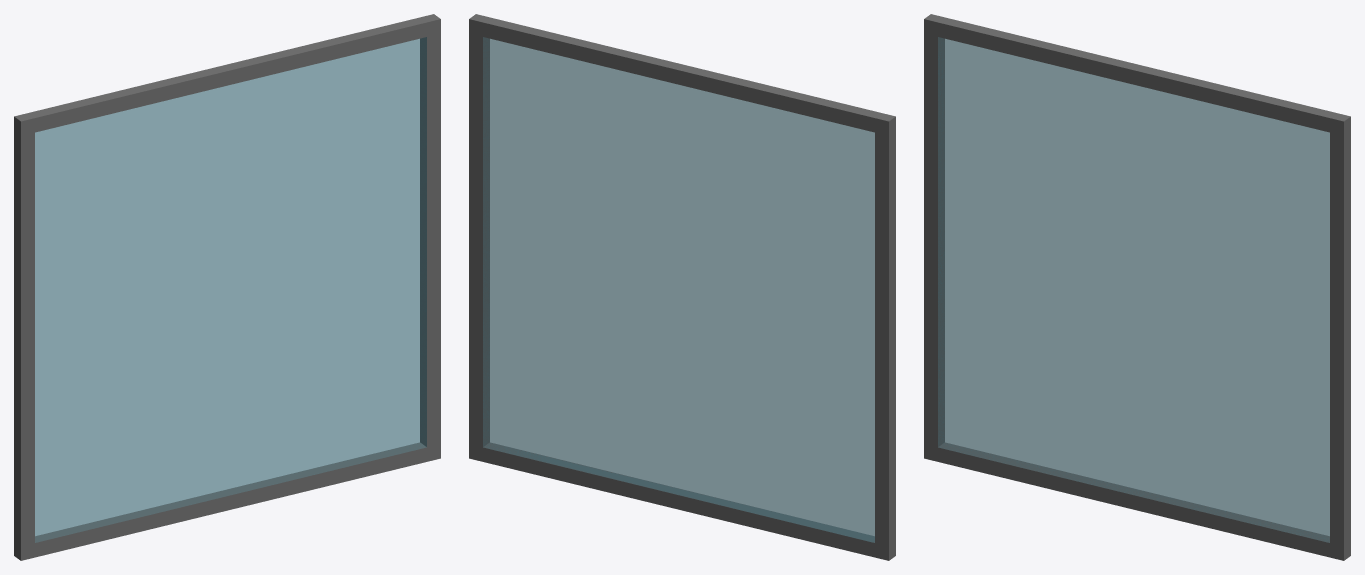
The model's file is 镜面广告.fbx.
The picture shows the model from 3 angles, left to right: view 1: azimuth 30°, elevation 25°; view 2: azimuth 150°, elevation 25°; view 3: azimuth 330°, elevation 25°; orthographic projection.
Parts seen in each view (by area): view 1: Rectangle060, Rectangle059; view 2: Rectangle060, Rectangle059; view 3: Rectangle060, Rectangle059.
Part boxes in pixels (box(x1,y1,x2,y2)): Rectangle060: box(35, 37, 426, 542); Rectangle059: box(14, 14, 440, 560); Rectangle060: box(483, 37, 874, 542); Rectangle059: box(469, 14, 895, 560); Rectangle060: box(938, 37, 1329, 542); Rectangle059: box(924, 14, 1350, 560).
Bounding box in the file's own units: 69.81 × 69.81 × 2.
